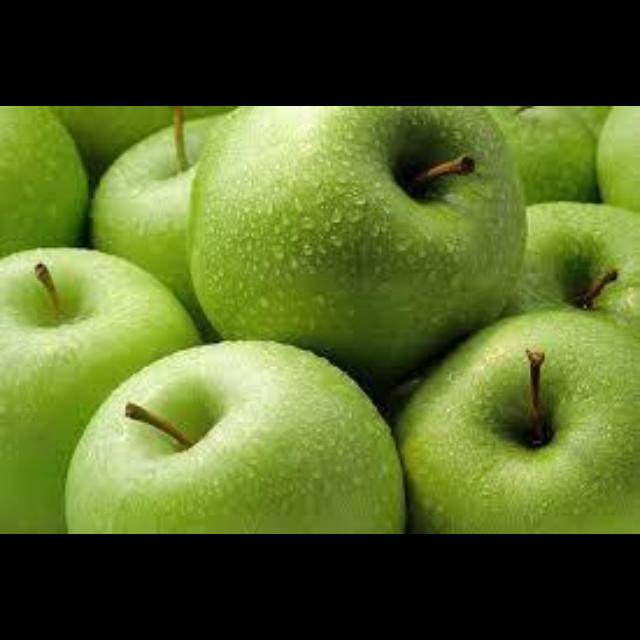apple: (191, 106, 521, 381), (67, 341, 403, 532), (0, 248, 198, 532), (393, 313, 638, 532), (91, 106, 226, 336), (505, 201, 638, 341), (0, 106, 86, 255), (598, 106, 638, 211)
